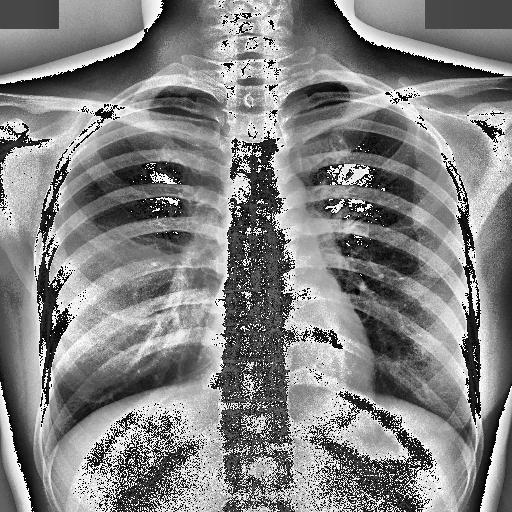7- Lung Opacity: (33, 246, 211, 378), (34, 248, 206, 380)
8- Nodule-Mass: (44, 240, 208, 382)
